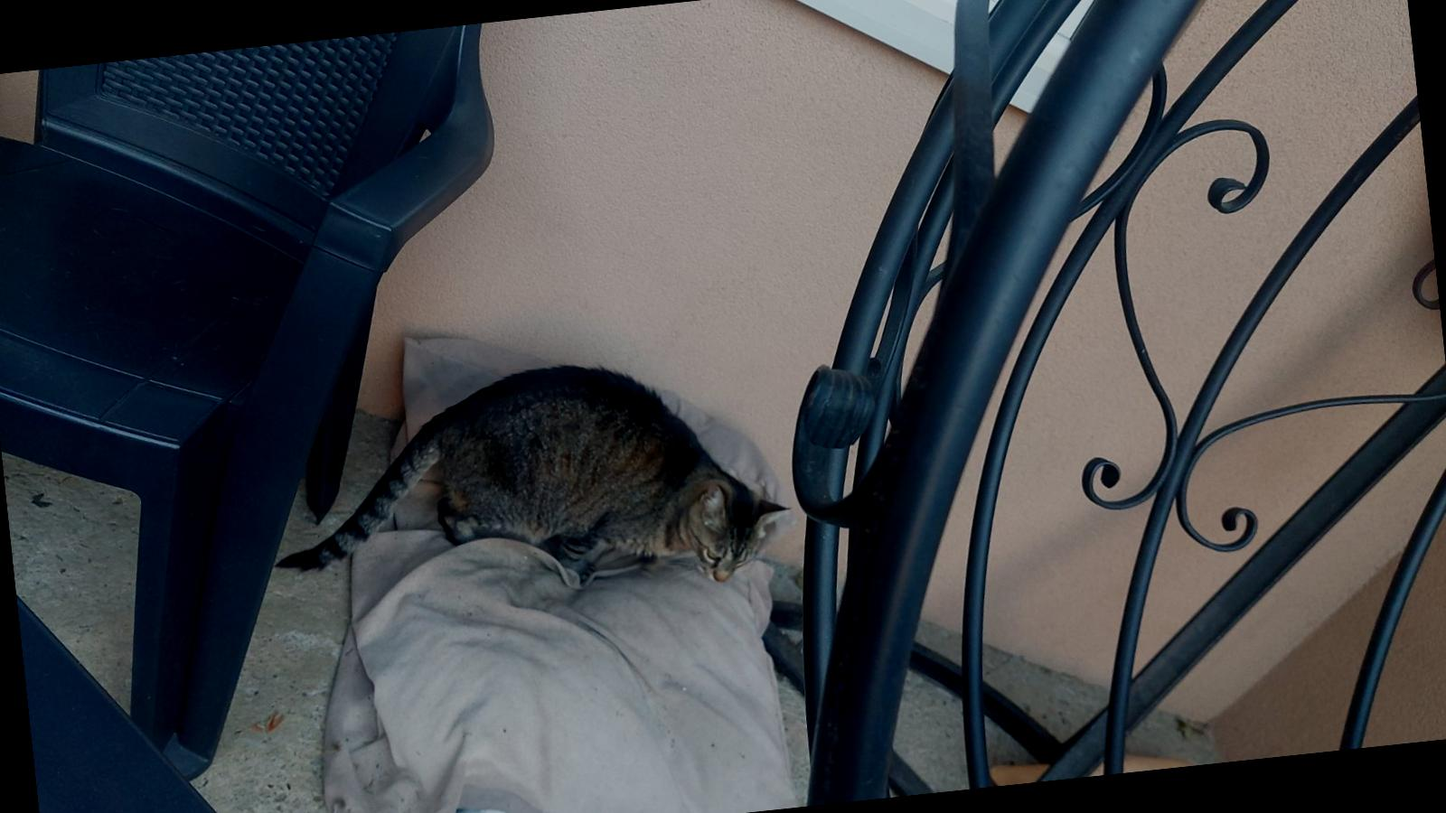macka: (259, 340, 798, 631)
